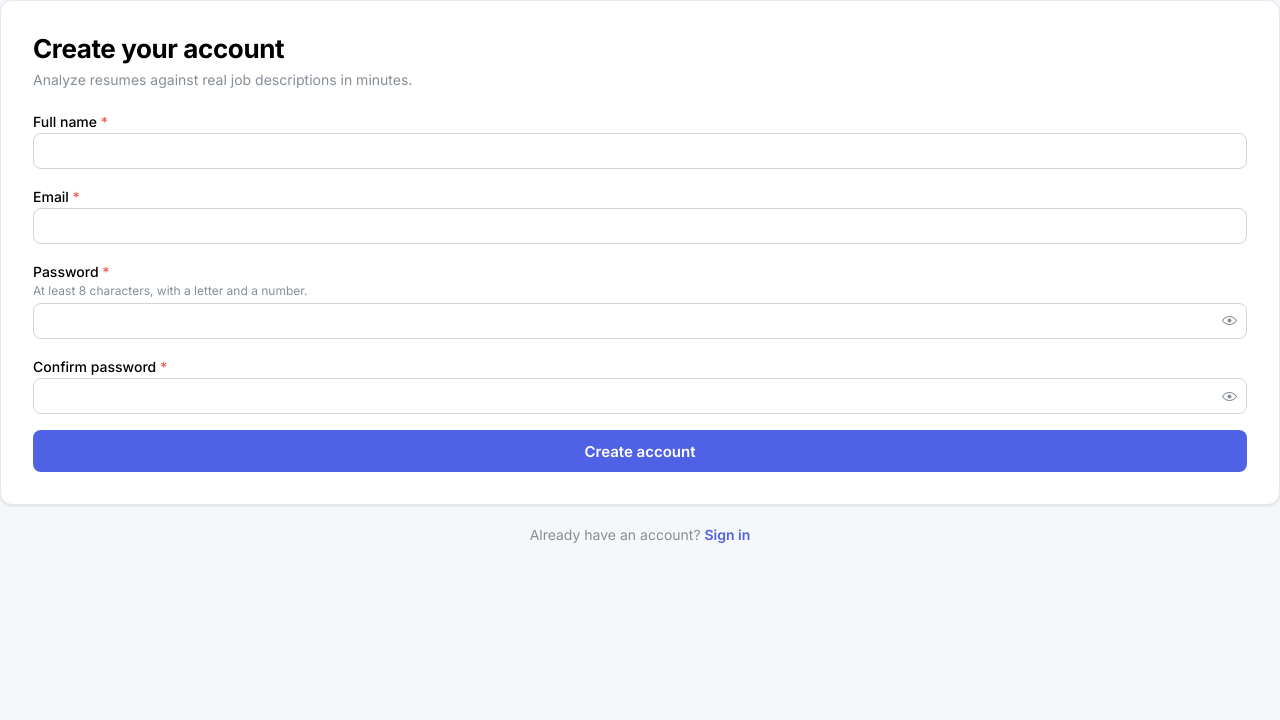
Test: RegisterForm › maps a taken email to the email field and omits confirm_password from the request
Type "Sam" into the field labelled "Full name *" at (640, 151), box [33, 133, 1247, 169]
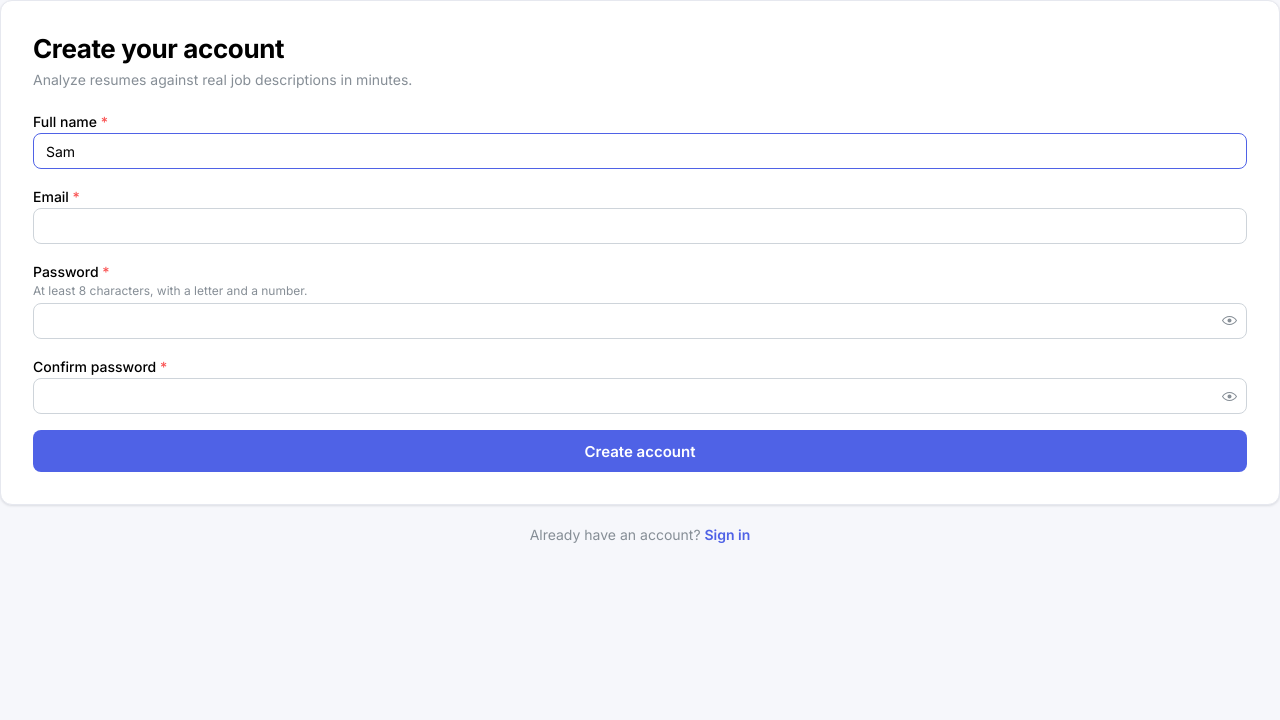
Type "sam@example.com" into the field labelled "Email *" at (640, 226), box [33, 208, 1247, 244]
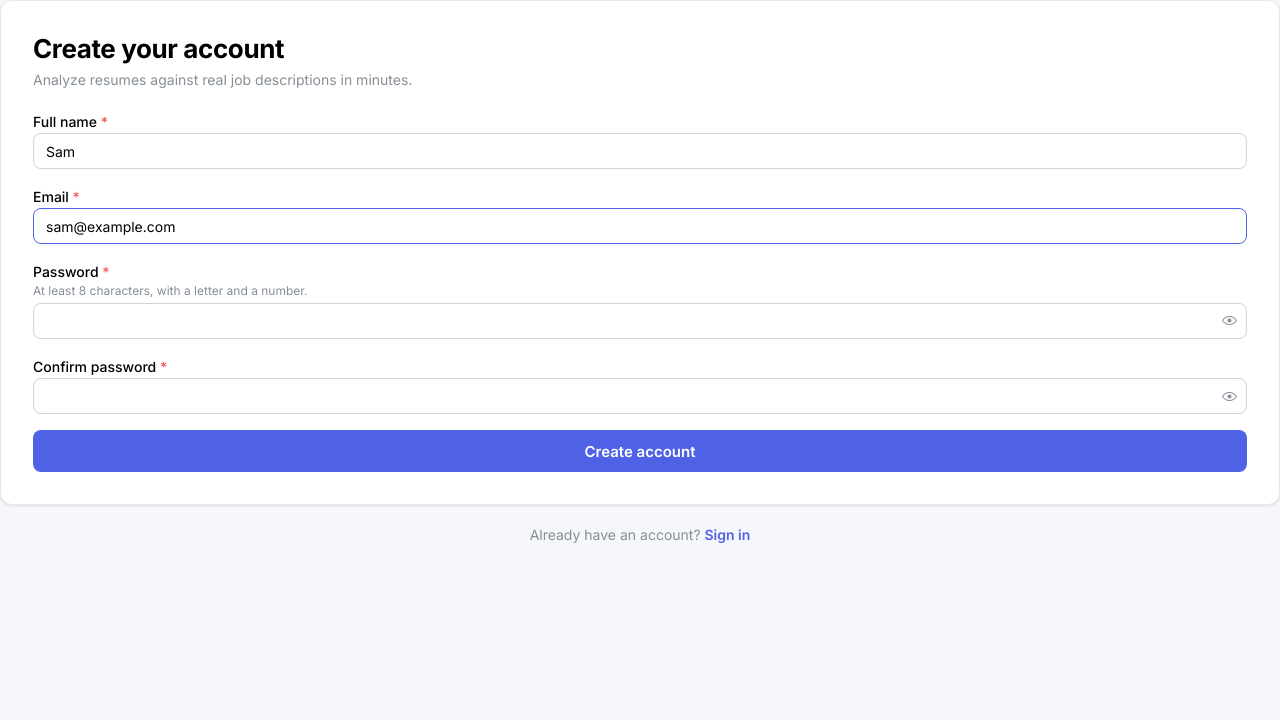
Type "Password123" into the password field labelled "Password *" at (640, 321), box [34, 304, 1246, 338]
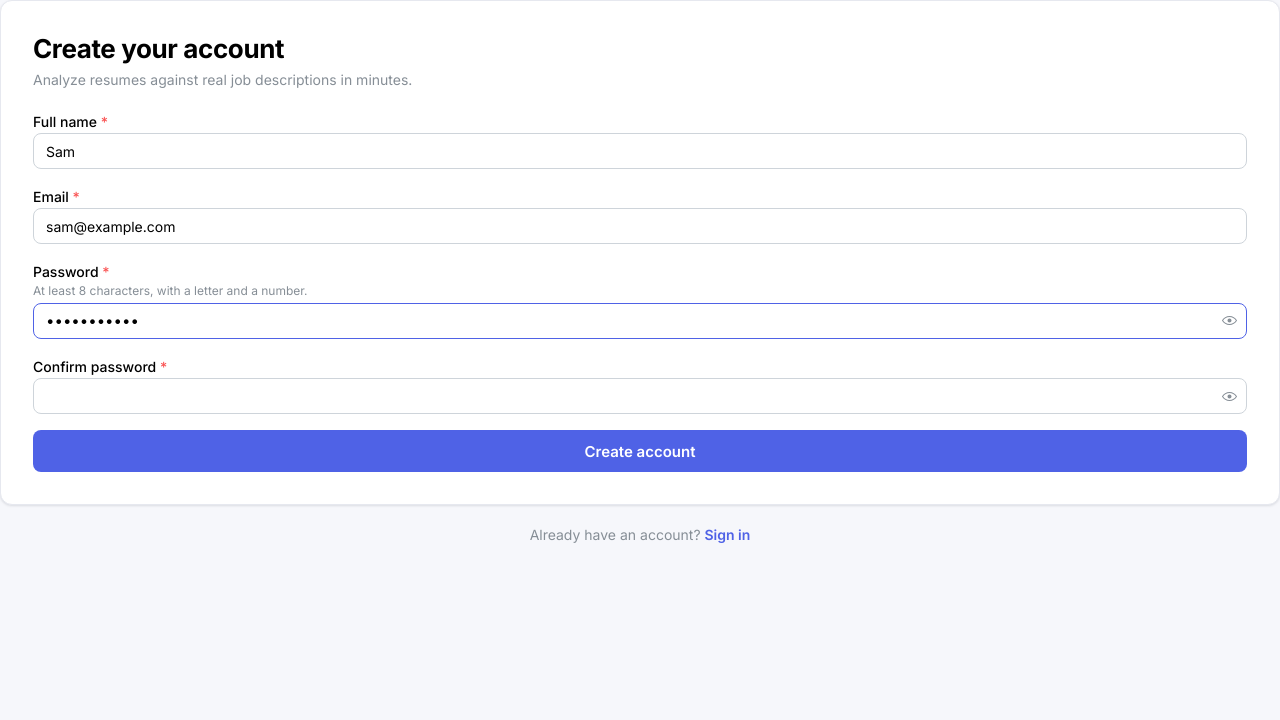
Type "Password123" into the password field labelled "Confirm password *" at (640, 396), box [34, 379, 1246, 413]
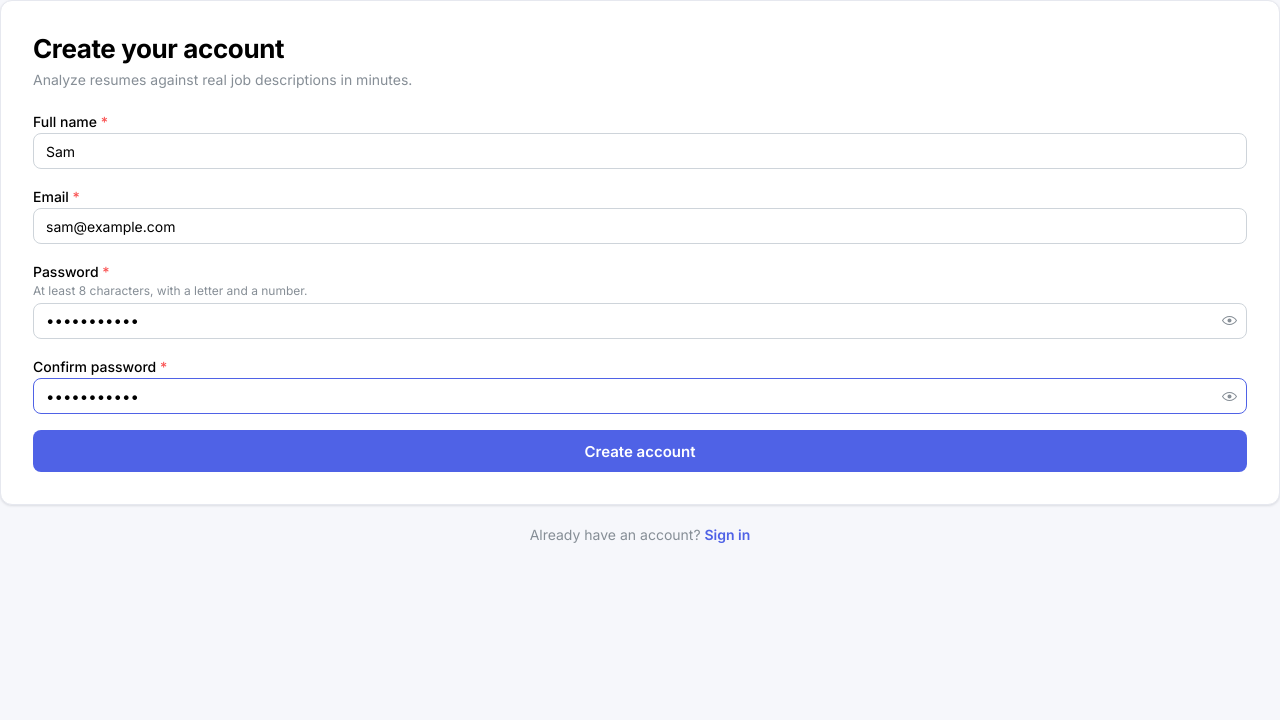
Click the button "Create account" at (640, 451), box [33, 430, 1247, 472]
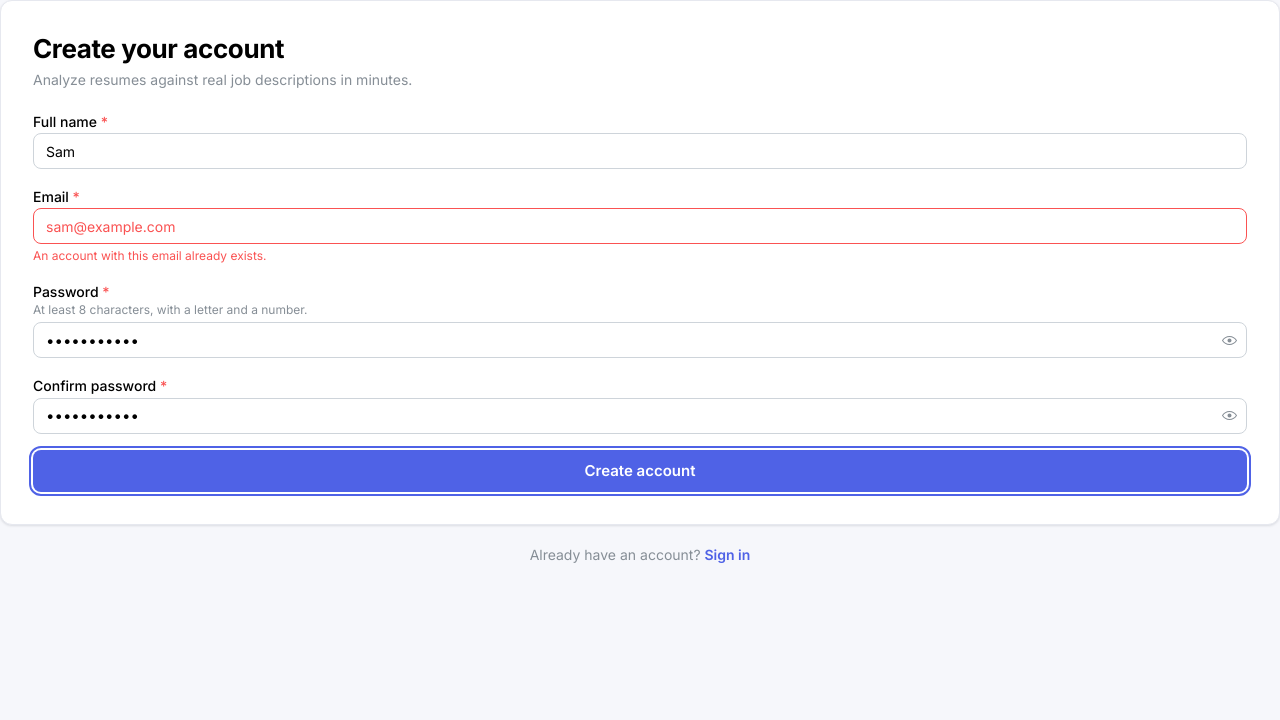
Result: the text "An account with this email already exists." is shown at [33, 248, 266, 263]
